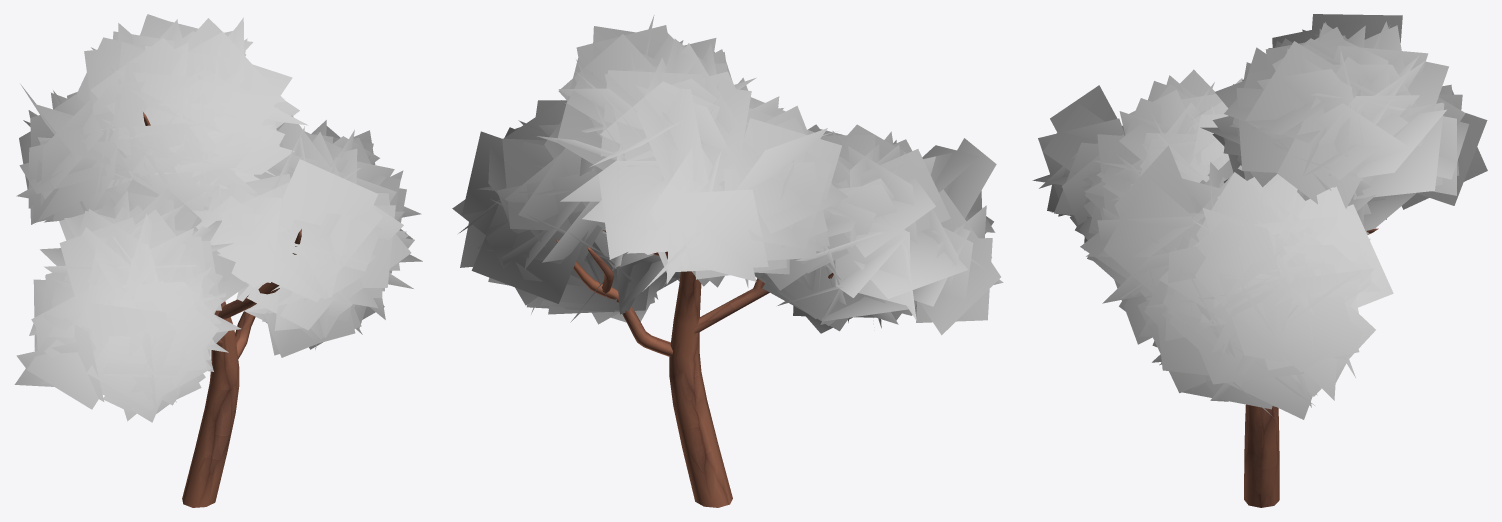
Rendered from q_tree_e.fbx.
3 views of the same model, side by side, from view 1: azimuth 30°, elevation 25°; view 2: azimuth 150°, elevation 25°; view 3: azimuth 270°, elevation 25° (orthographic). The views are drawn at different scales.
Visible parts, largest first — view 1: q_tree_e; view 2: q_tree_e; view 3: q_tree_e.
Boxes of the visible parts, <box> form: q_tree_e: <box>14,14,422,507</box>; q_tree_e: <box>452,15,1003,507</box>; q_tree_e: <box>1032,14,1487,507</box>.
Size of the model in its own units: 1.04 by 1 by 0.8612.
